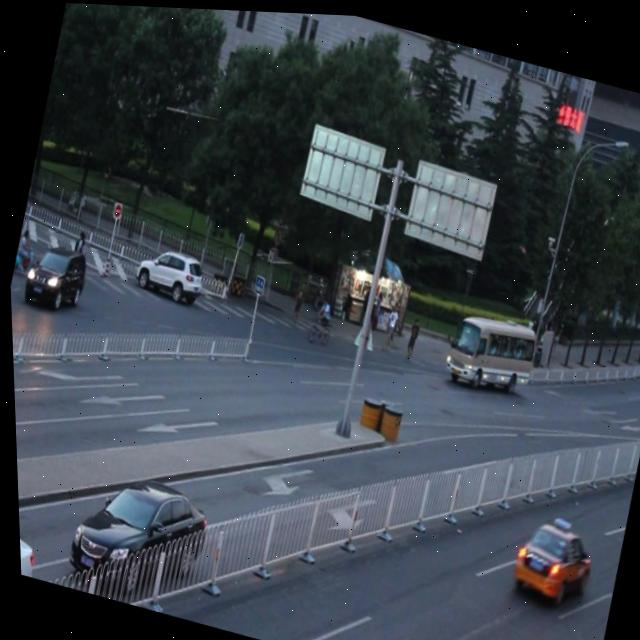car: (58, 460, 214, 609), (500, 505, 593, 604), (16, 235, 90, 314), (128, 239, 206, 307), (15, 507, 40, 578)
truck: (440, 303, 536, 392)
